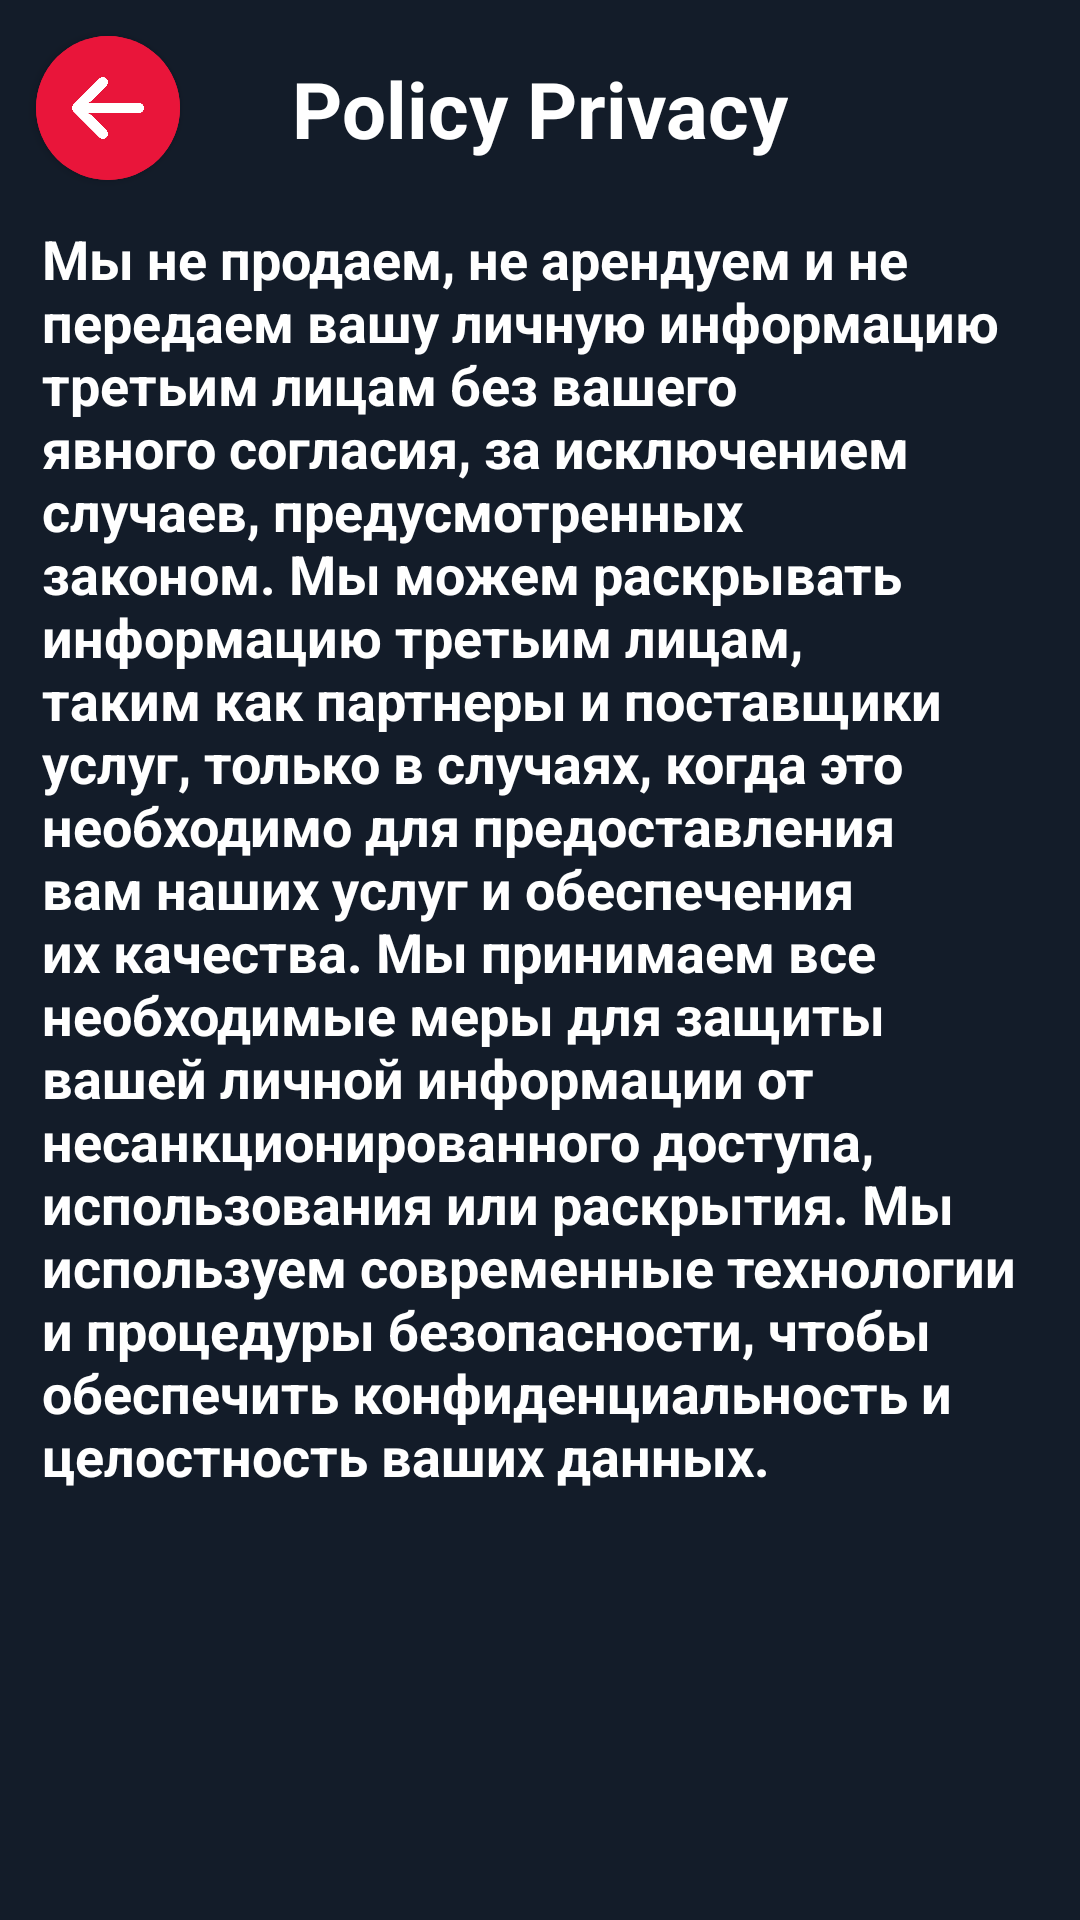

Point at icon controls on the screen. Image size 1080 x 1920, points as [x,y].
back: [108,108]
